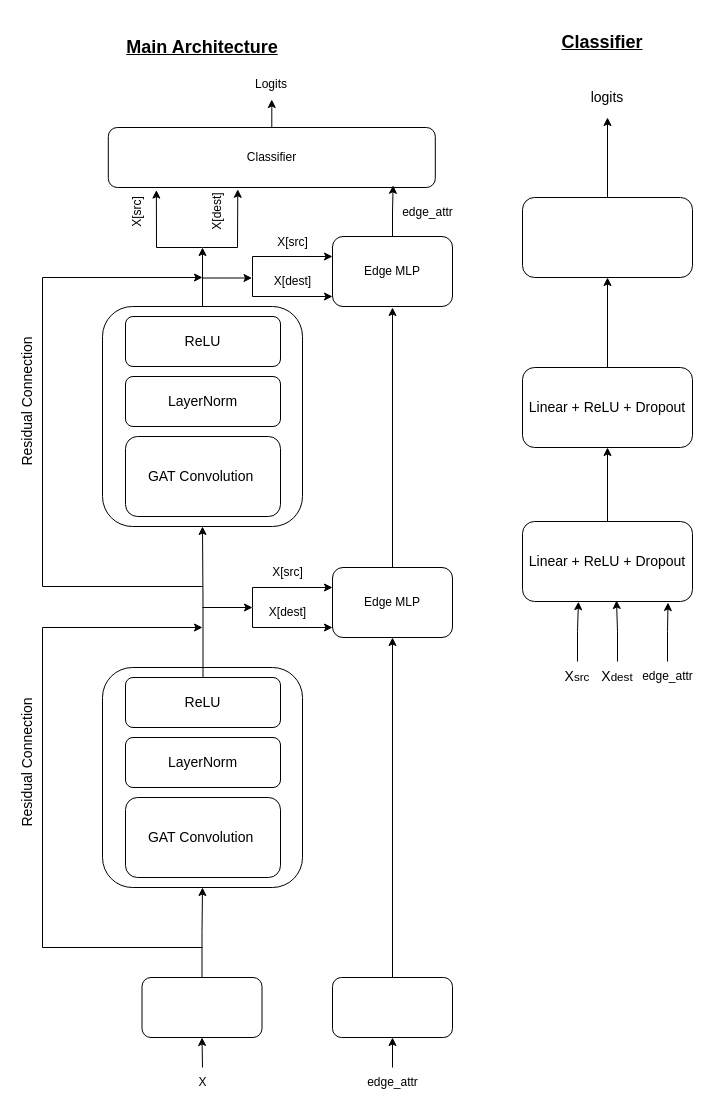
This 719x1114 diagram has some shape labels left out. The shapes that lost their labels are listed below. From the top down, each one's centre as x and y in pixels, then its label:
At [607,237]: "Linear".
At [201,1007]: "Node Encoder".
At [392,1007]: "Edge Feature Encoder".
